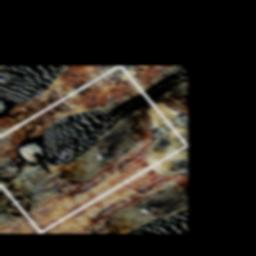Woodpecker: (4, 75, 172, 202)
